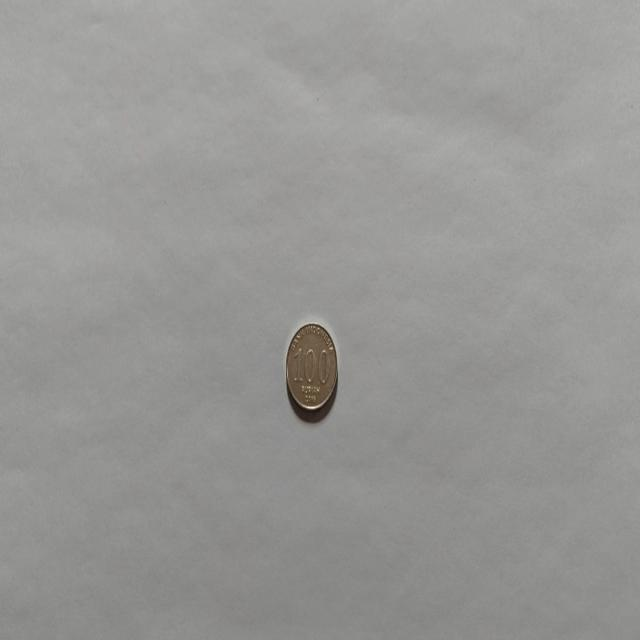seratus rupiah: (284, 320, 338, 414)
